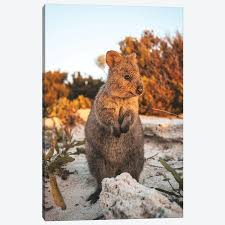quokka: (71, 43, 155, 197), (154, 201, 155, 202)
